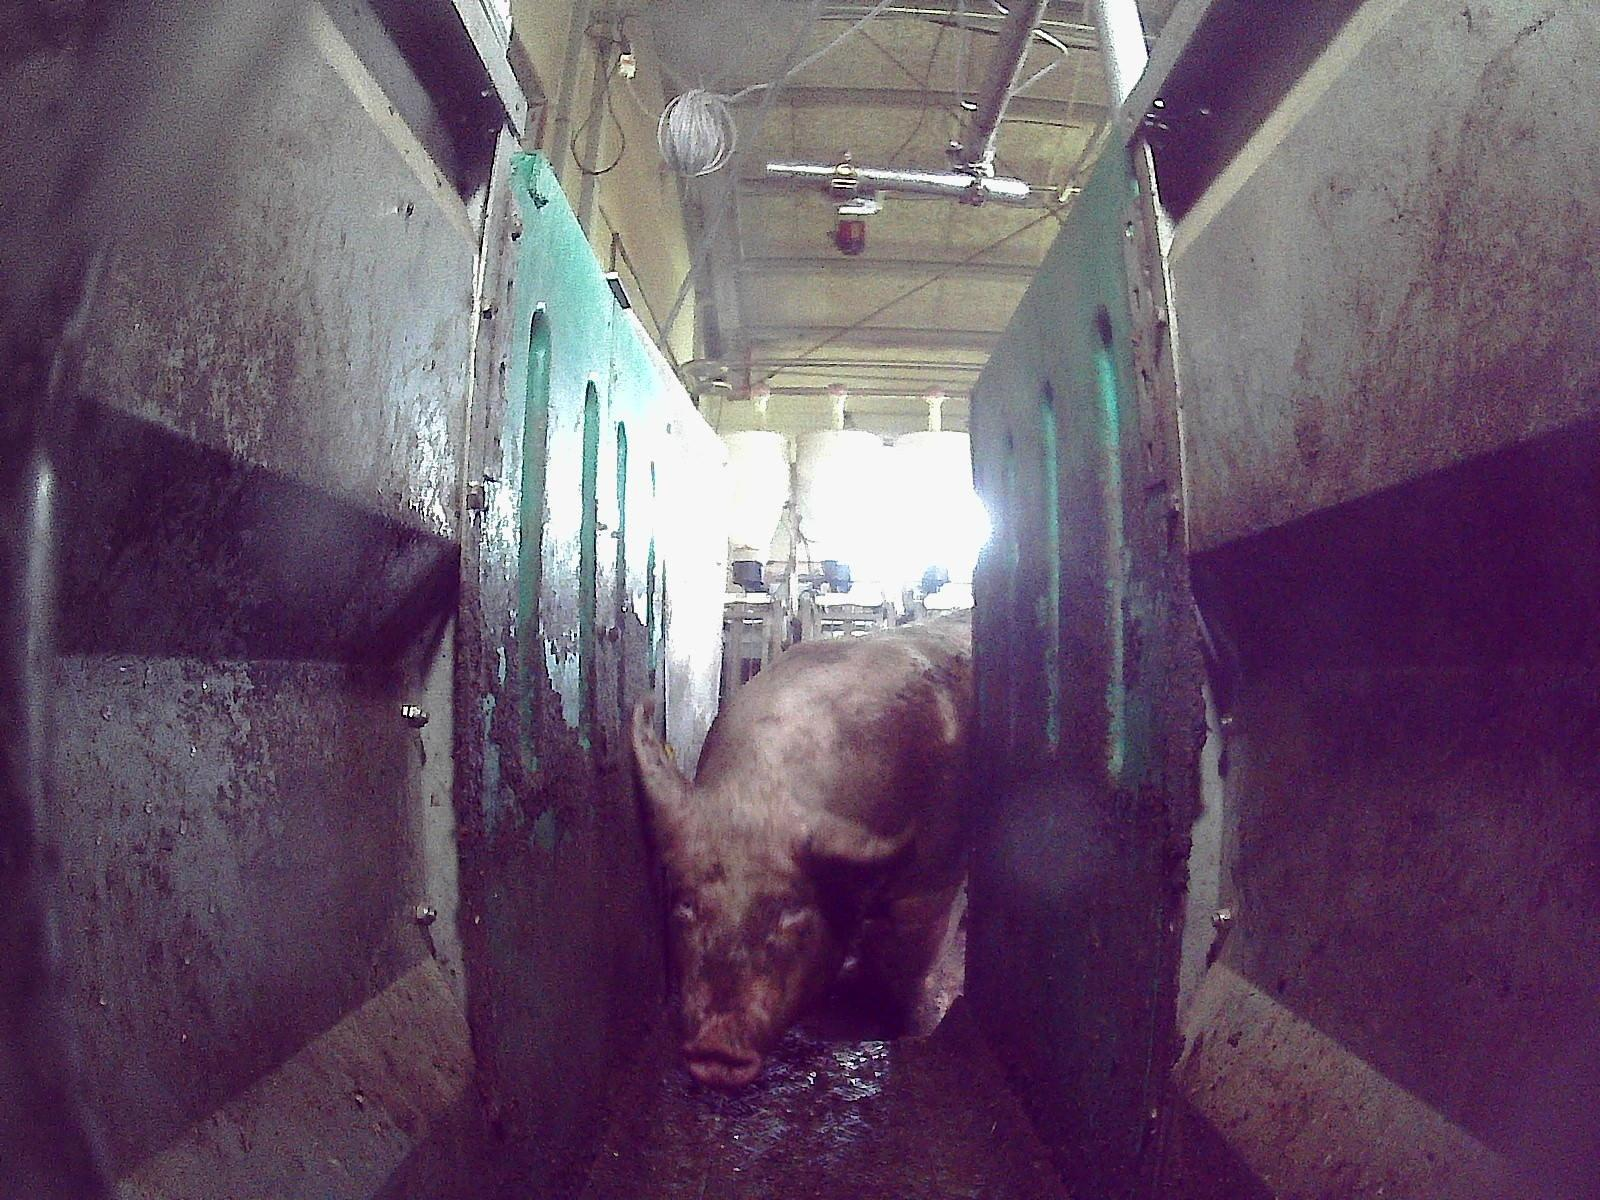Face: (663, 802, 833, 1088)
